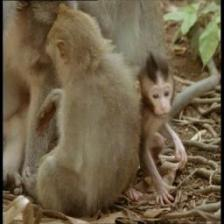monkey: (136, 54, 190, 130), (20, 12, 51, 86)
